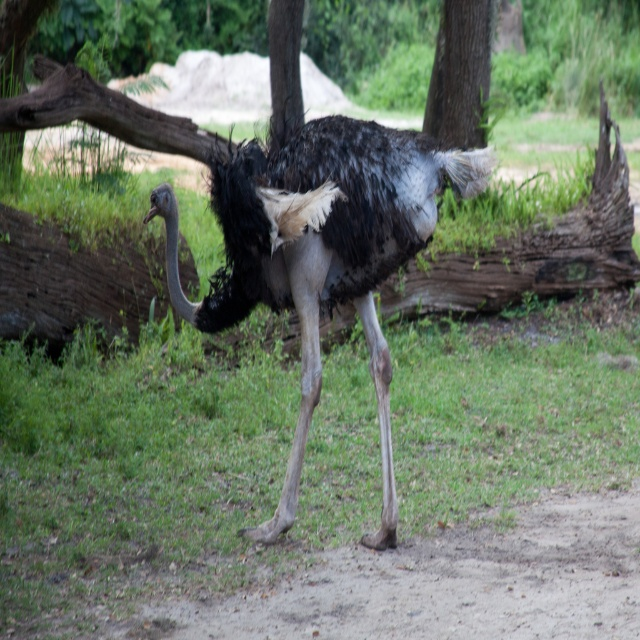Ostrich: (144, 108, 499, 558)
